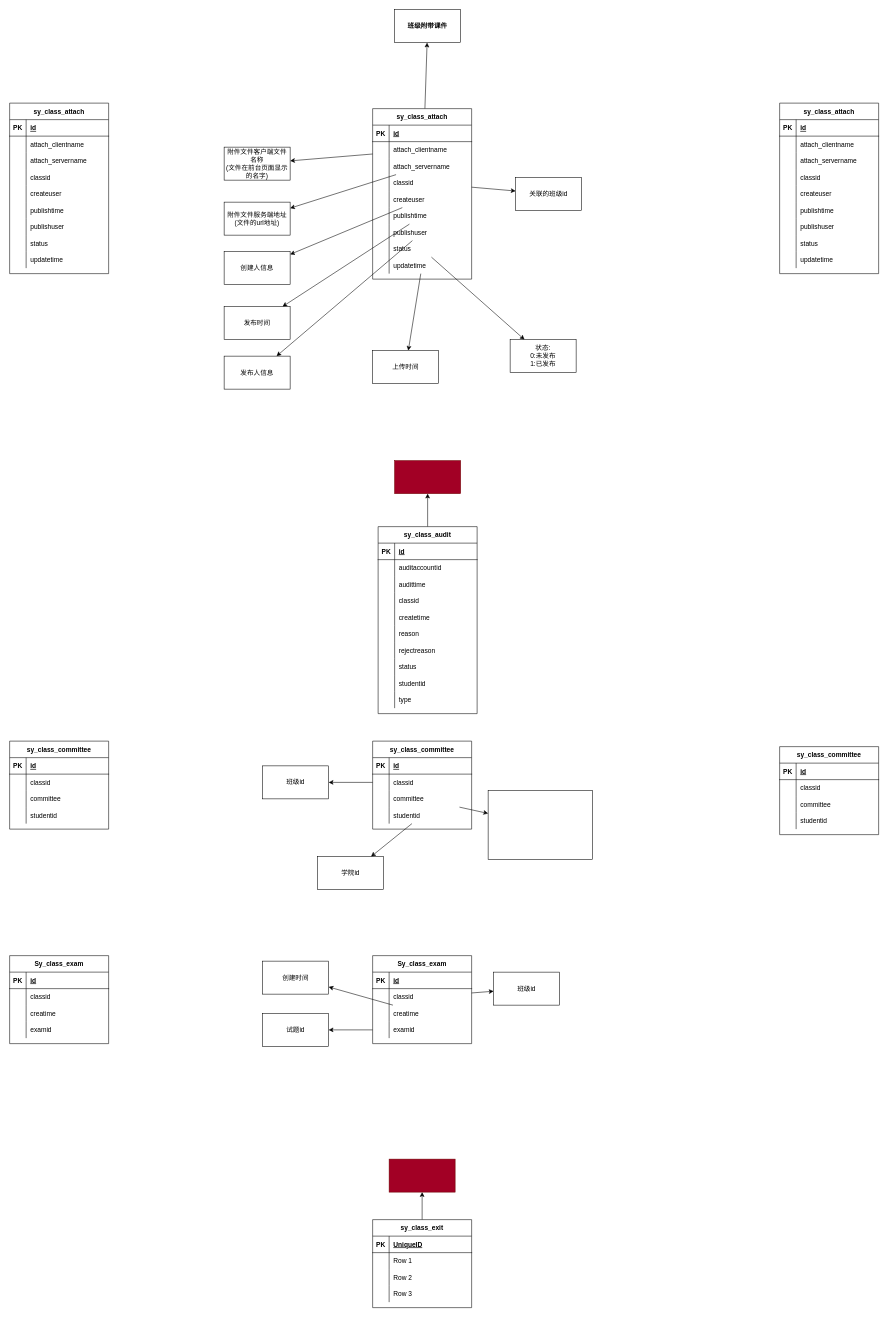
This 888x1317 diagram has some shape labels left out. Each missing label, with the centre of its shape:
2条数据: pixel 422 1175
班委分类: 0班长, 1副班长 2支部书记 3支部副书记 4组织委员 5宣传委员: pixel 540 824
空表: pixel 427 477
